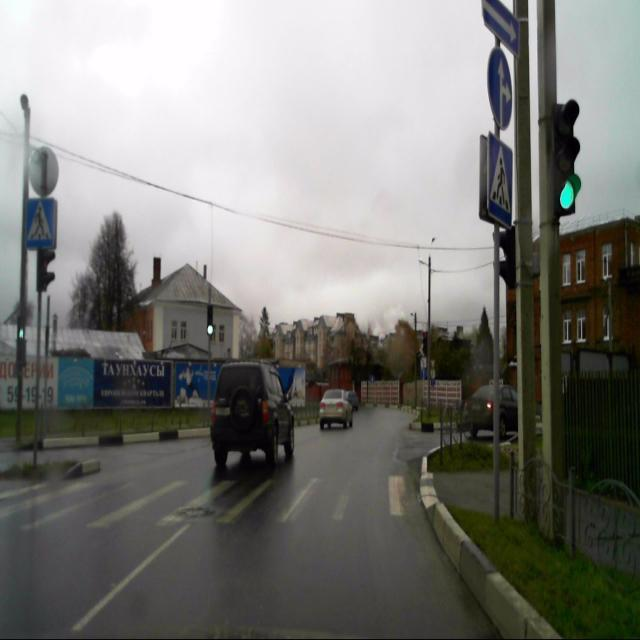road sign: (487, 133, 512, 229), (484, 0, 521, 56), (26, 197, 54, 248)
